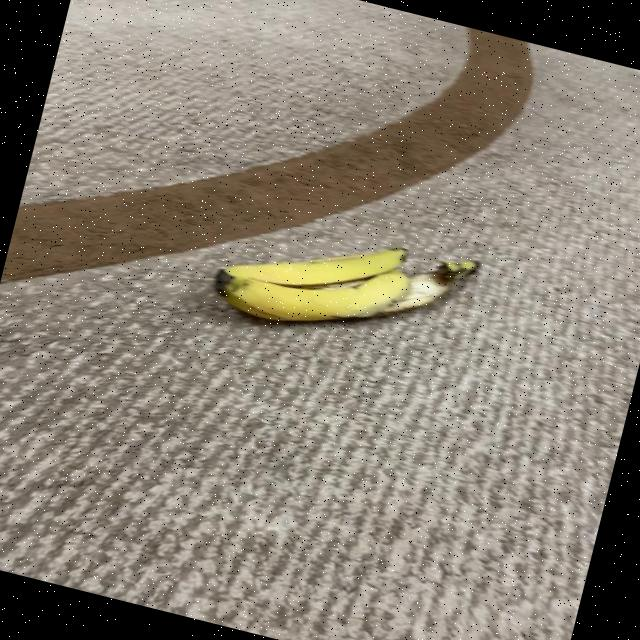banana-peel: (206, 198, 480, 368)
